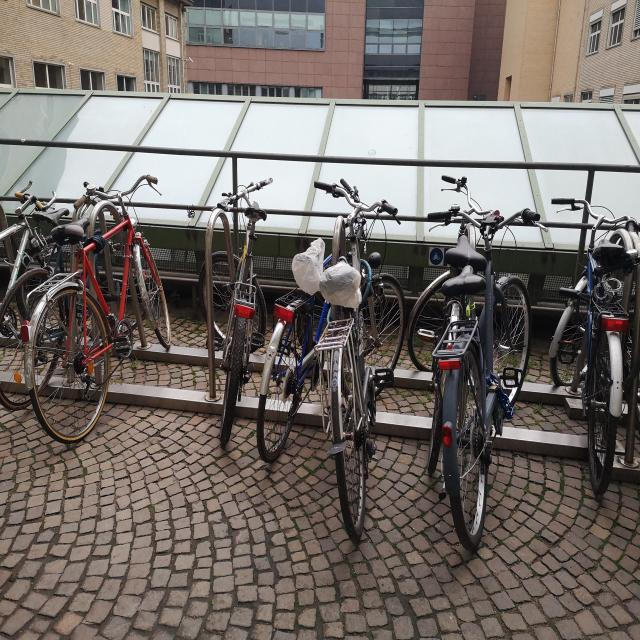Bicycle: (34, 169, 174, 456), (449, 202, 536, 556), (328, 213, 409, 557), (0, 178, 109, 414), (558, 144, 628, 491), (280, 202, 341, 494), (425, 172, 462, 494), (217, 176, 258, 458), (0, 171, 39, 280)
